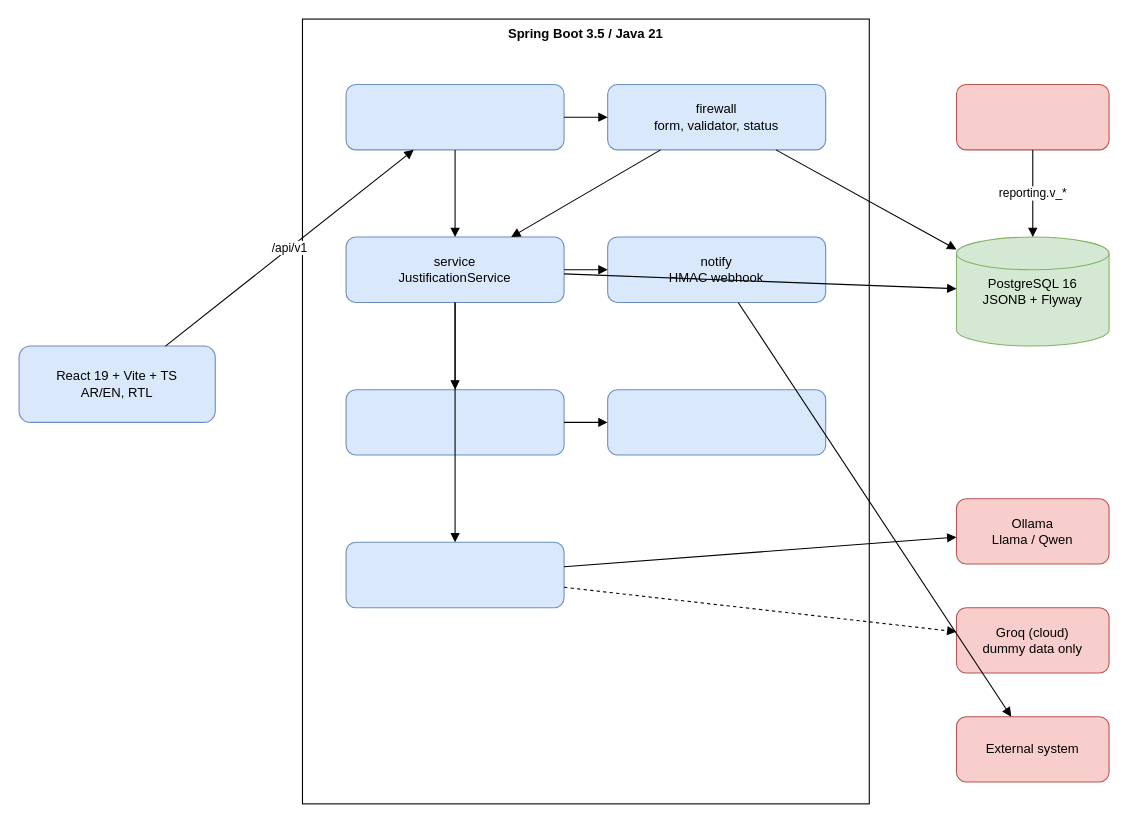
The diagram is 1128 pixels wide and 823 high, and some of its shapes have lost their labels. The shapes that lost their labels are listed below. From the top down, each one's box as (x1, y1, x2, y2) in pixels, then its label:
(345, 83, 564, 150): api controllers, problem+json
(955, 83, 1109, 150): Power BI
(345, 389, 564, 455): core + core.pipeline (no framework imports)
(607, 389, 826, 455): template YAML templates
(345, 541, 564, 608): ai PromptBuilder, parser, clients
